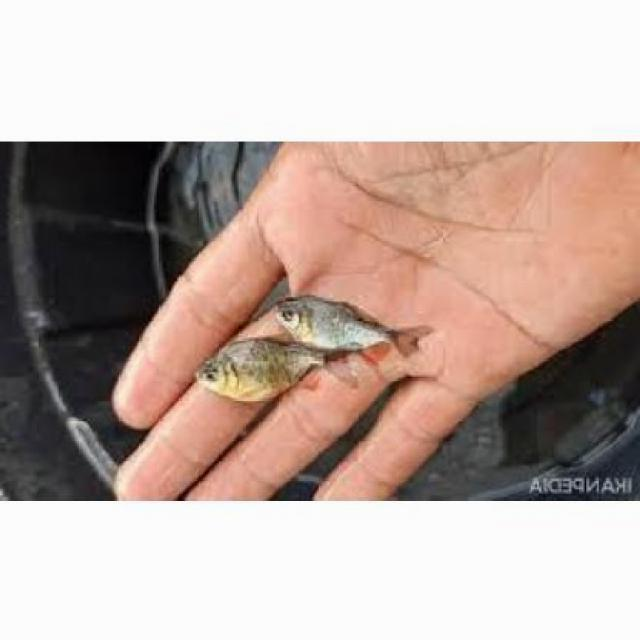ikan-pacu: (202, 338, 327, 400), (274, 289, 394, 345)
